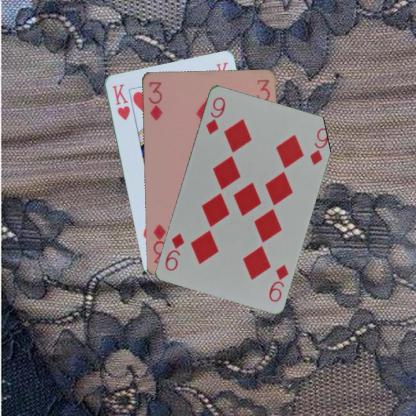3d: (146, 78, 164, 122)
9d: (266, 262, 290, 302), (203, 94, 226, 135)
Kh: (109, 81, 131, 121)
